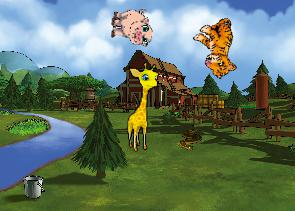giraffe: (127, 62, 159, 152)
pig: (109, 7, 153, 47)
tiger: (186, 12, 253, 81)
